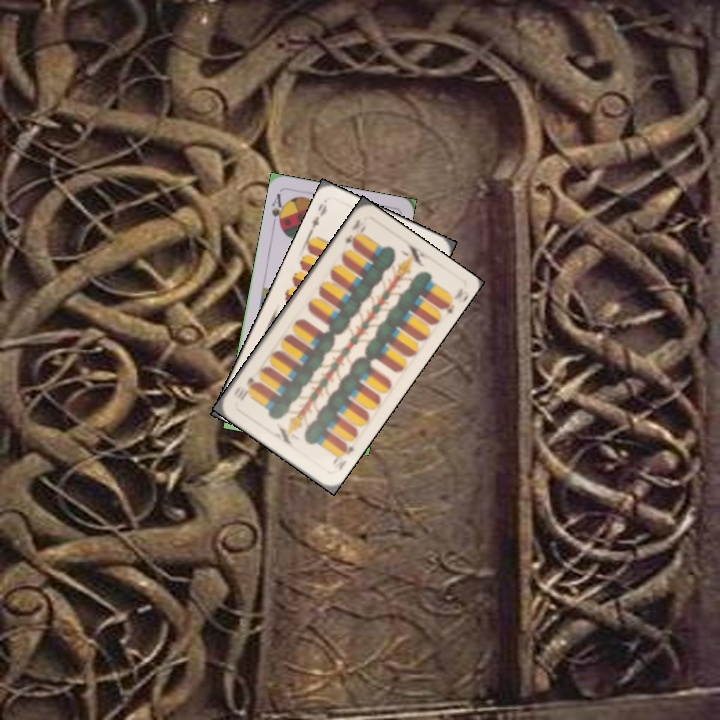E10: (328, 439, 357, 473), (340, 215, 368, 249)
E9: (306, 197, 330, 235)
SA: (268, 189, 288, 230)
